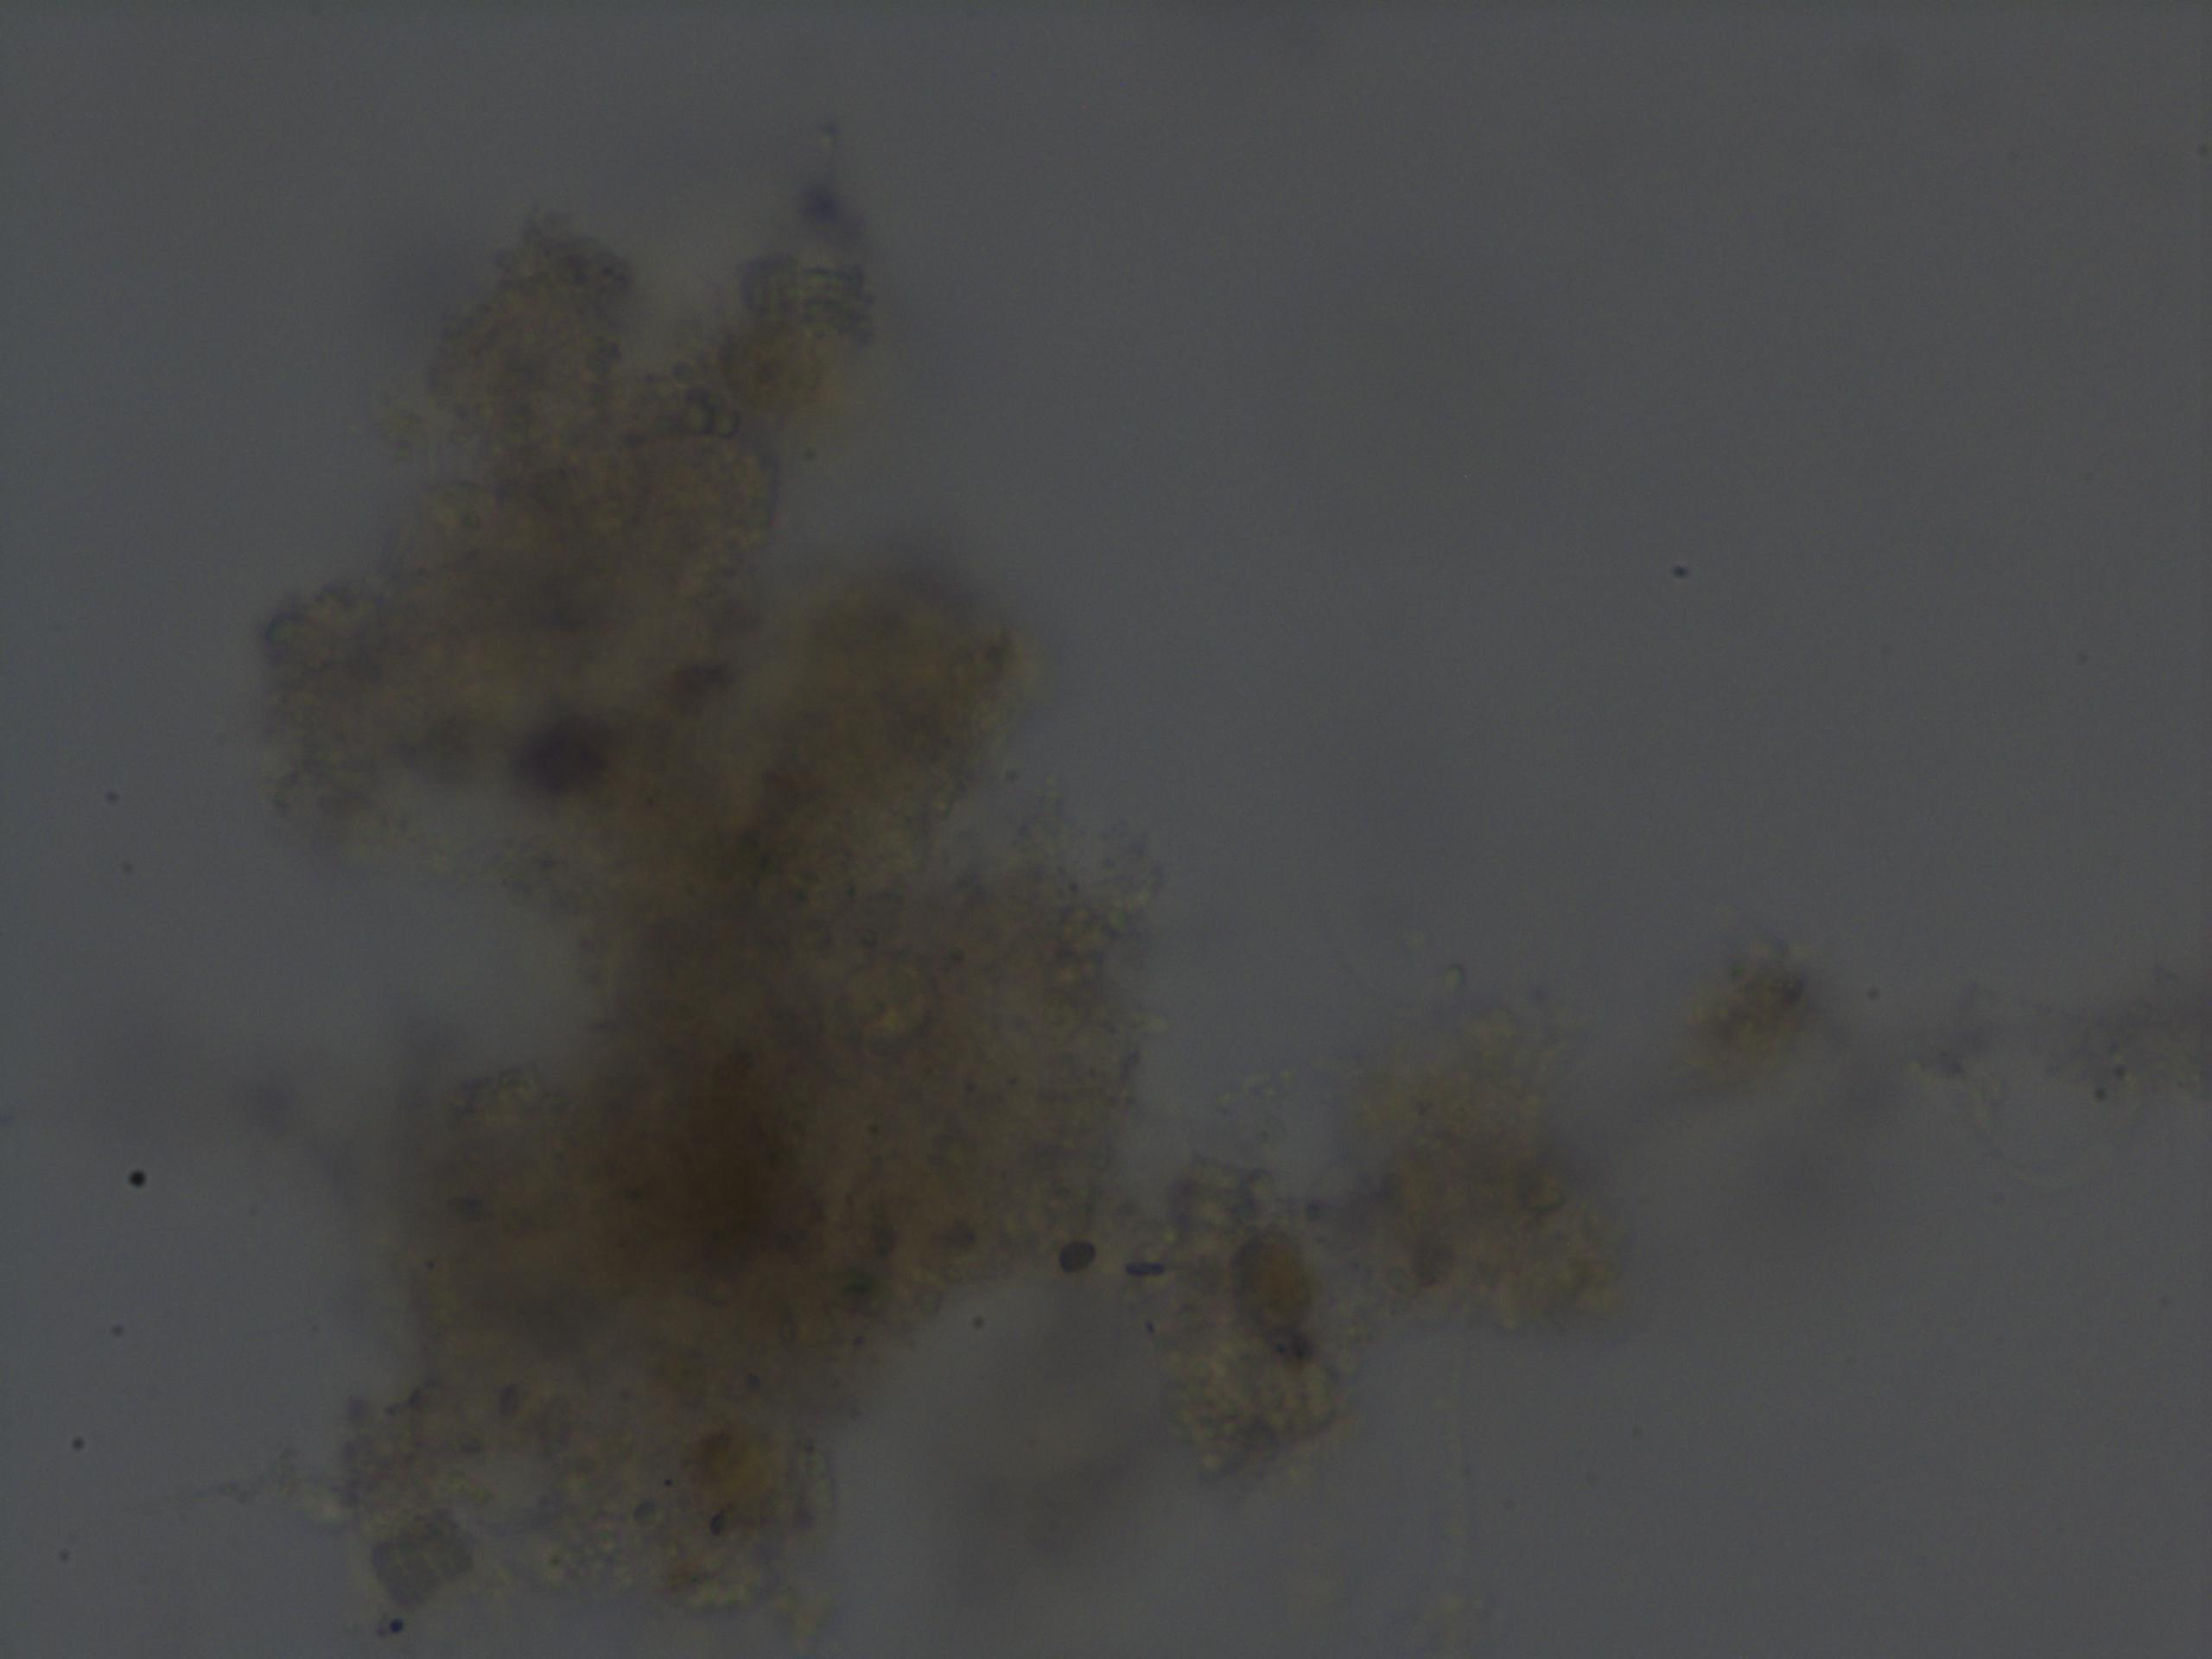open_floc: (242, 181, 1629, 1659)
